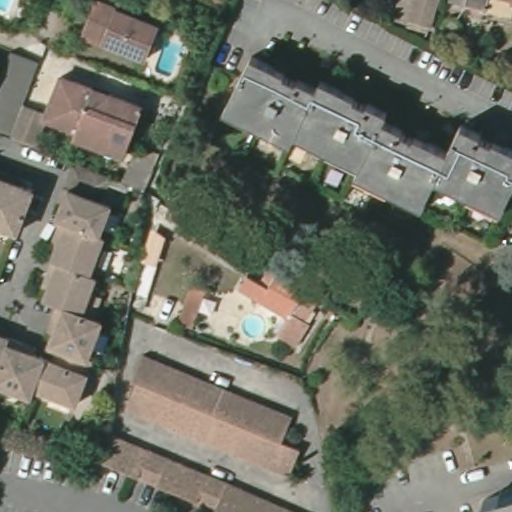pool: (155, 38, 185, 81), (238, 314, 267, 345), (1, 1, 17, 16)
